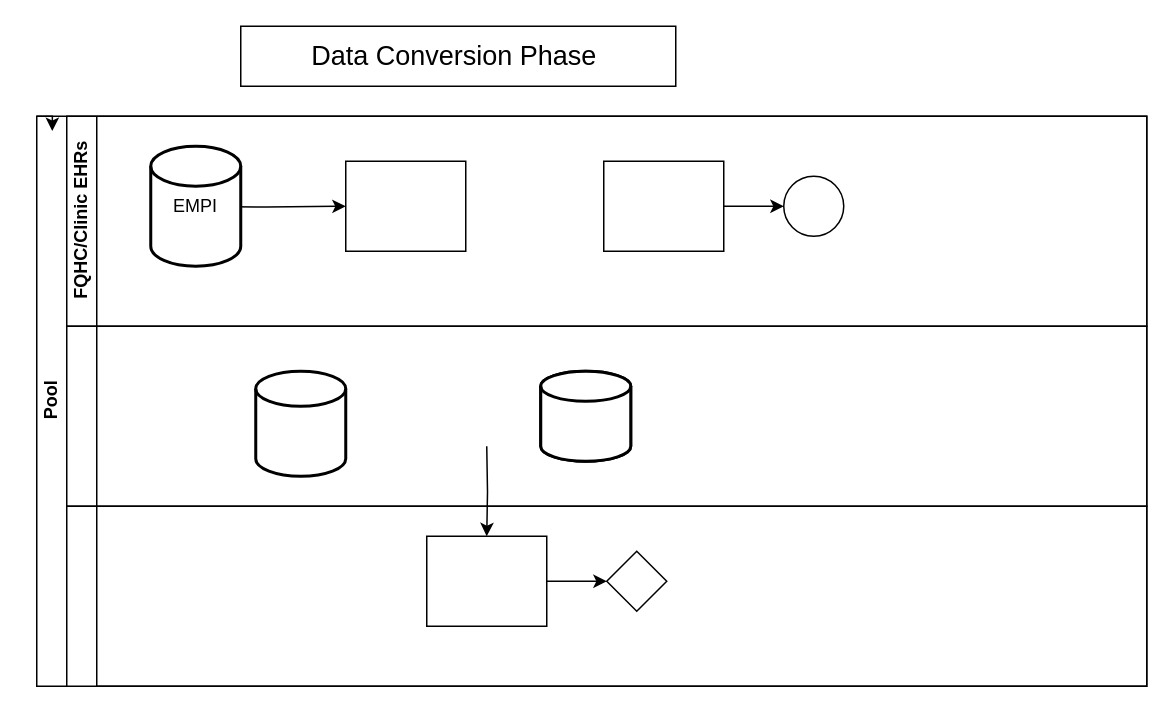
The diagram is 1173 pixels wide and 713 high, and some of its shapes have lost their labels. Here are the shapes that lost their labels. From the top down, the box of each, then its label:
(65, 325, 1147, 506): Unite Us
(65, 505, 1147, 686): Lane 3
